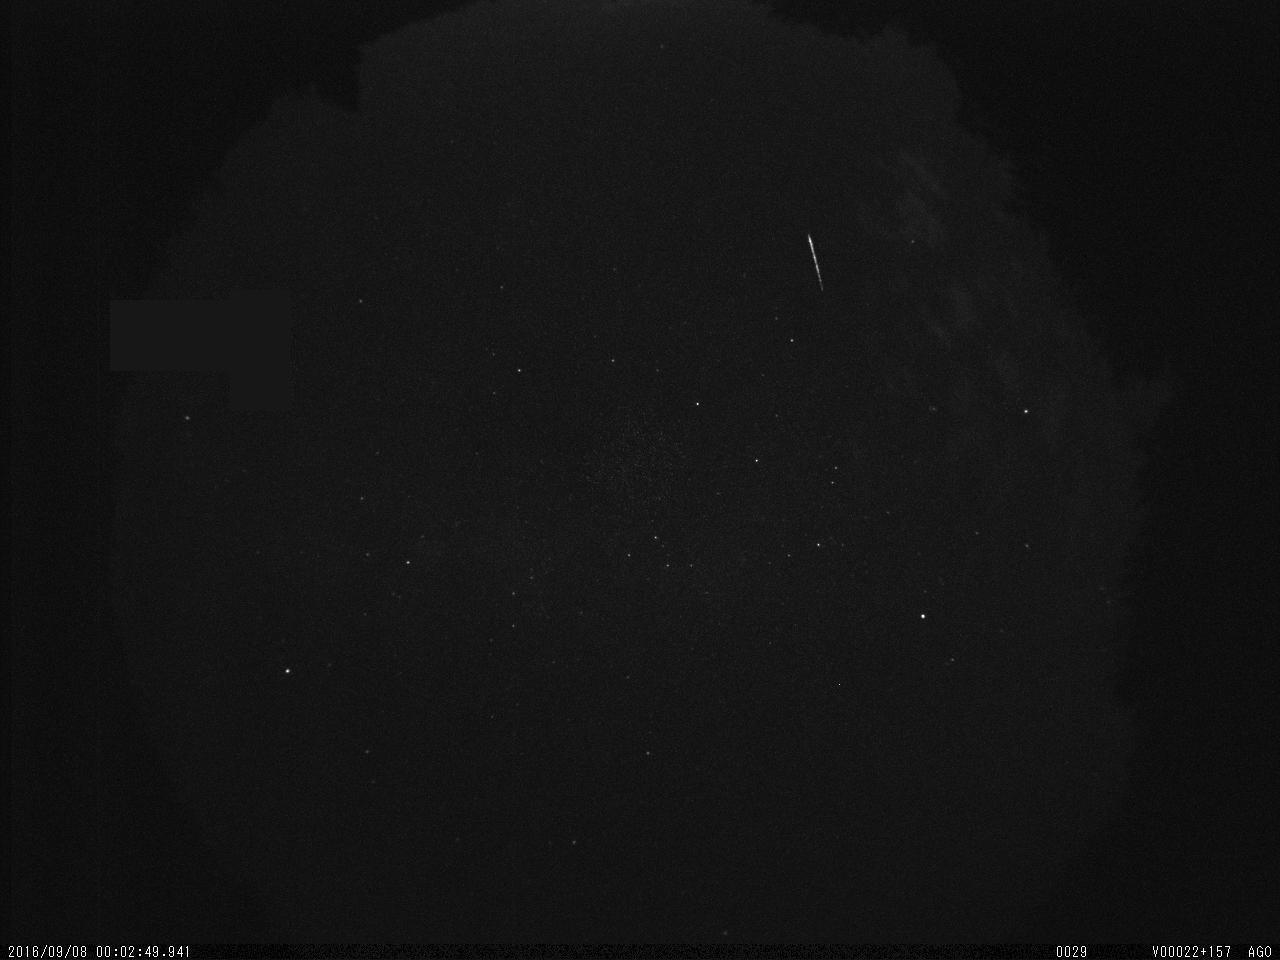Meteor: (803, 229, 825, 289)
